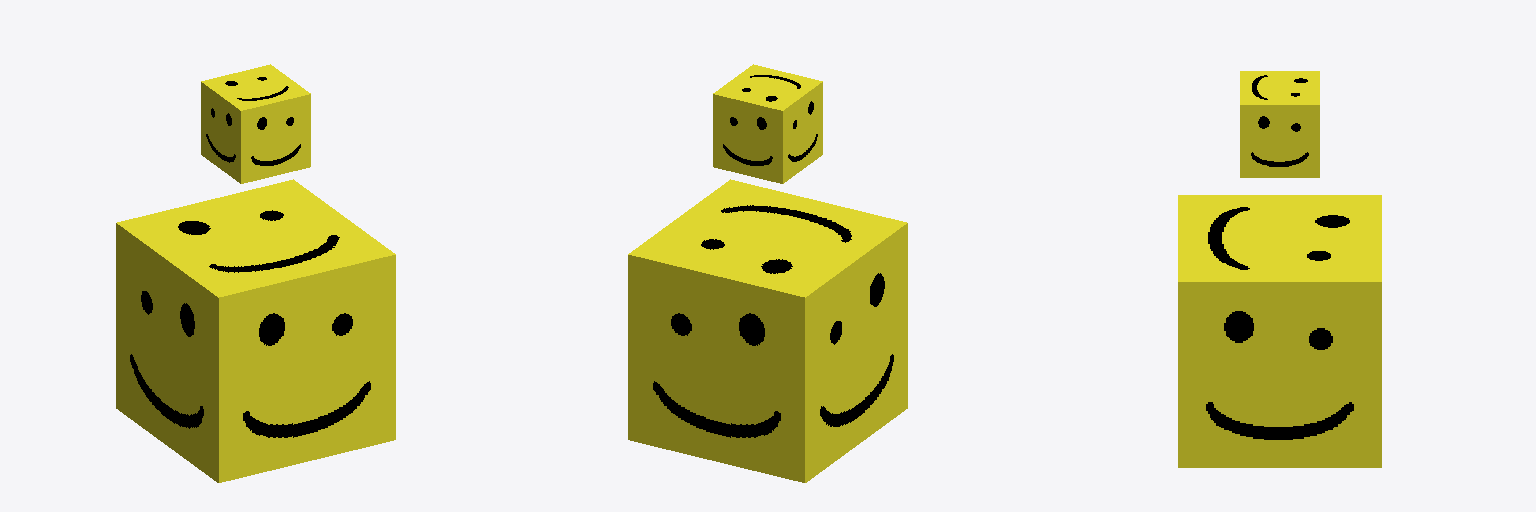
The picture shows the model from 3 angles: view 1: azimuth 30°, elevation 25°; view 2: azimuth 150°, elevation 25°; view 3: azimuth 270°, elevation 25°; orthographic projection.
Visible parts, largest first — view 1: cube, smaller_cube; view 2: cube, smaller_cube; view 3: cube, smaller_cube.
Boxes of the visible parts, box(x1,y1,x2,y2) form: cube: box(116, 179, 395, 482); smaller_cube: box(201, 64, 310, 183); cube: box(628, 179, 907, 482); smaller_cube: box(713, 64, 822, 183); cube: box(1178, 195, 1381, 467); smaller_cube: box(1240, 71, 1319, 177).
Bounding box in the file's own units: 2 × 3.63 × 2.
2 materials, 1 textured.